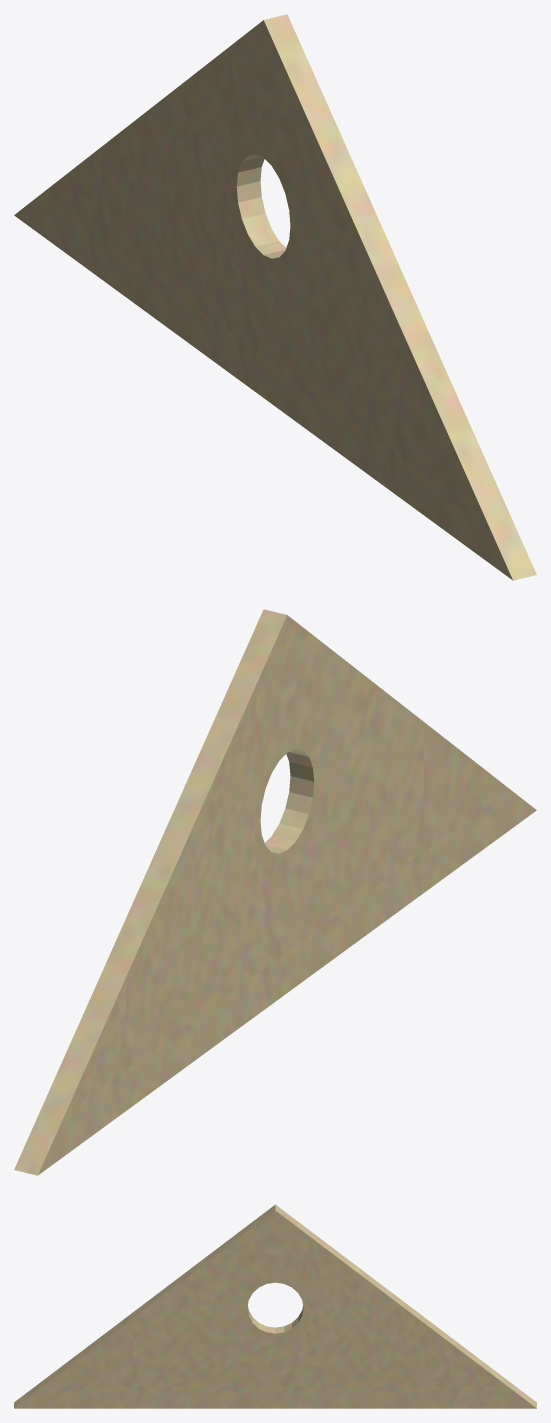
The model's file is SM_HH_V2_Gable_Front.fbx.
3 renders of one model, top to bottom at view 1: azimuth 30°, elevation 25°; view 2: azimuth 150°, elevation 25°; view 3: azimuth 270°, elevation 25°, orthographic. The views are drawn at different scales.
Parts seen in each view (by area): view 1: HH_V2_Gable_Front; view 2: HH_V2_Gable_Front; view 3: HH_V2_Gable_Front.
Part boxes in pixels (<box>): HH_V2_Gable_Front: <box>14,14,536,580</box>; HH_V2_Gable_Front: <box>14,609,536,1175</box>; HH_V2_Gable_Front: <box>14,1204,536,1408</box>.
Bounding box in the file's own units: 8.74 × 0.24 × 3.65.
